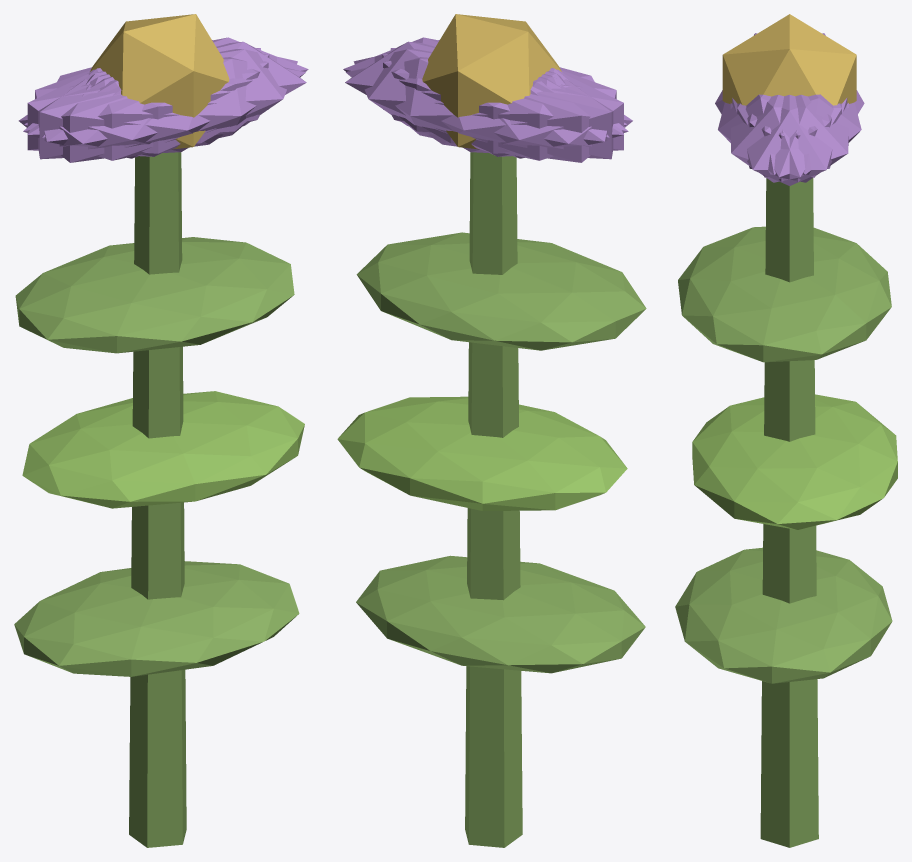
File: rhaphidophora-elmeri.glb
3 views of the same model, side by side, from view 1: azimuth 30°, elevation 25°; view 2: azimuth 150°, elevation 25°; view 3: azimuth 270°, elevation 25° (orthographic).
Parts seen in each view (by area): view 1: stem, leaf2, leaf0, leaf1, center, petal1, petal6, petal2, petal5, petal7, petal0, petal4 (+2 smaller); view 2: stem, leaf2, leaf1, leaf0, center, petal8, petal3, petal7, petal4, petal2, petal0, petal5 (+2 smaller); view 3: stem, leaf2, leaf1, leaf0, center, petal0, petal4, petal5, petal8, petal1.
Part boxes in pixels (x1,y1,x2,y2): stem: (129,152,186,847); leaf2: (15,237,294,353); leaf0: (14,561,299,676); leaf1: (22,391,304,508); center: (90,14,229,149); petal1: (23,57,305,160); petal6: (18,69,223,162); petal2: (38,48,260,159); petal5: (42,49,297,153); petal7: (27,54,269,156); petal0: (90,41,306,143); petal4: (24,37,308,135); stem: (465,152,522,847); leaf2: (356,232,646,350); leaf1: (337,396,627,510); leaf0: (356,555,645,673); center: (422,14,561,149); petal8: (346,57,628,160); petal3: (428,69,632,162); petal7: (390,48,613,159); petal4: (353,49,609,153); petal2: (382,54,623,156); petal0: (345,41,561,143); petal5: (343,37,627,134); stem: (760,178,818,847); leaf2: (678,226,891,362); leaf1: (692,394,897,529); leaf0: (675,547,892,683); center: (722,14,856,105); petal0: (732,94,847,185); petal4: (737,94,848,182); petal5: (730,94,841,182); petal8: (747,94,861,174); petal1: (718,94,831,174).
Size of the model in its own units: 0.1452 by 0.4052 by 0.1018.
